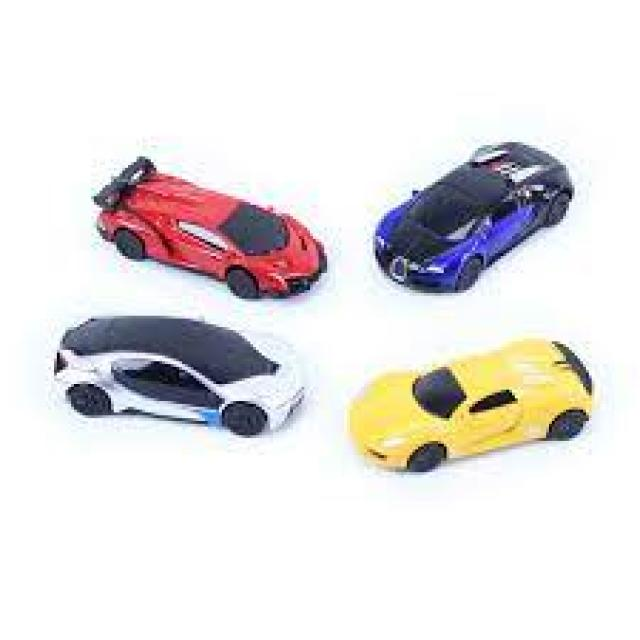Car: (91, 154, 327, 298), (347, 336, 595, 472), (372, 139, 572, 293), (52, 313, 304, 435)
